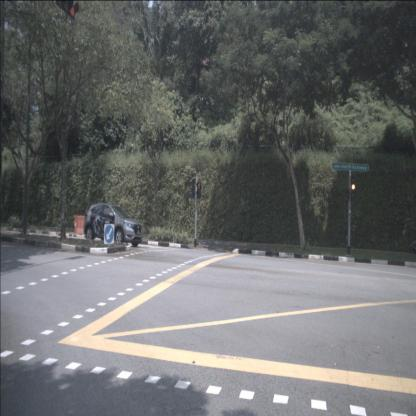barrier: (74, 215, 93, 235)
